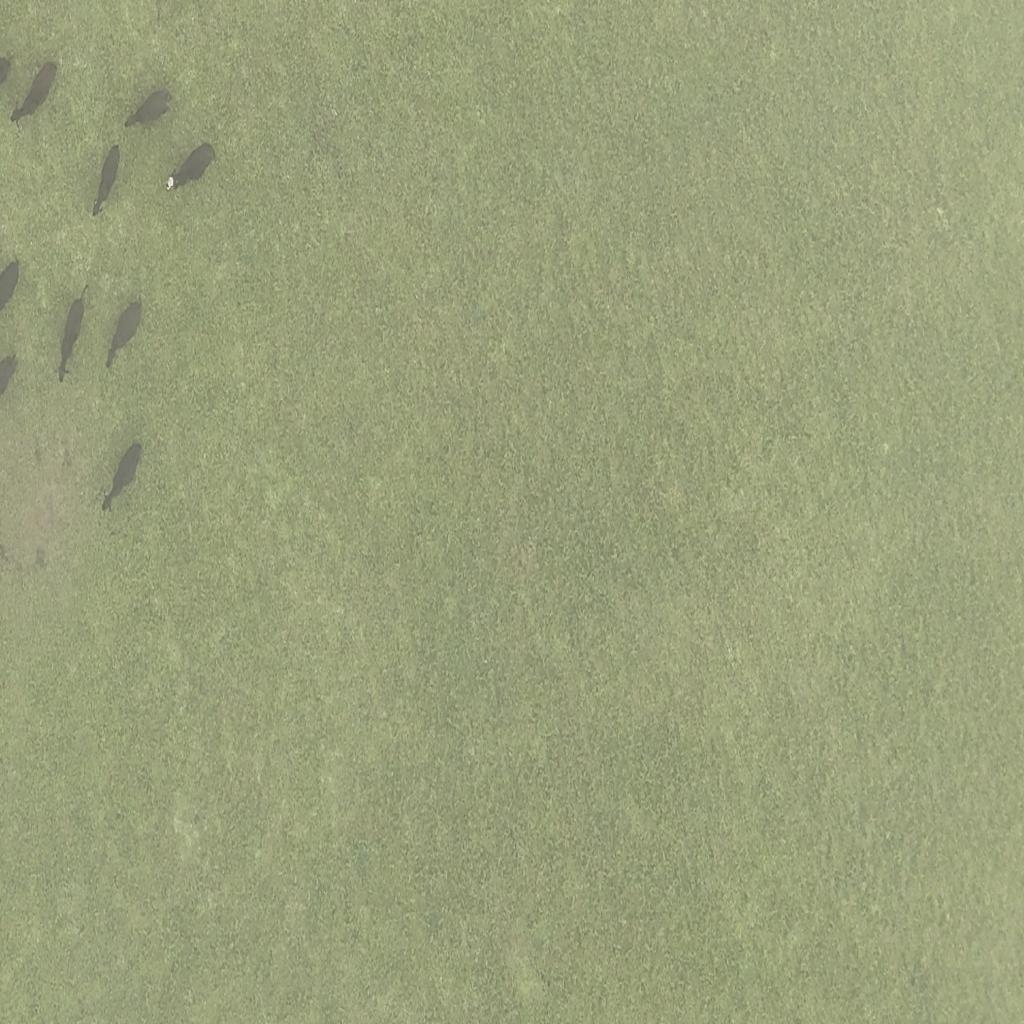cow: (9, 58, 61, 134), (56, 282, 91, 388), (98, 434, 143, 515), (104, 292, 144, 373), (166, 140, 217, 198), (88, 141, 124, 219), (123, 84, 174, 130), (0, 250, 21, 324), (0, 352, 18, 400), (0, 54, 12, 94)
